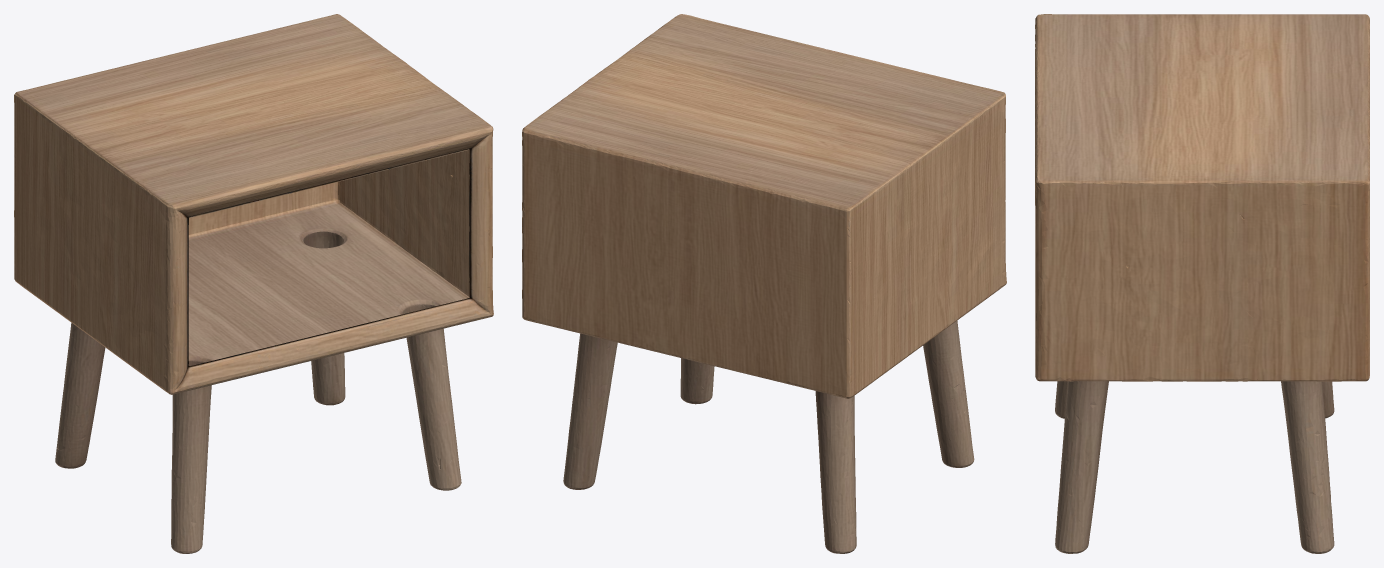
Rendered from body.glb.
3 renders of one model, left to right at view 1: azimuth 30°, elevation 25°; view 2: azimuth 150°, elevation 25°; view 3: azimuth 270°, elevation 25°, orthographic. The views are drawn at different scales.
Visible parts, largest first — view 1: source_surface_0; view 2: source_surface_0; view 3: source_surface_0.
Boxes of the visible parts, x1,y1,x2,y2 form: source_surface_0: (14,14,493,553); source_surface_0: (522,14,1006,553); source_surface_0: (1035,14,1369,553).
Bounding box in the file's own units: 0.5164 × 0.55 × 0.4334.
Materials: 1 (1 with a texture image).
